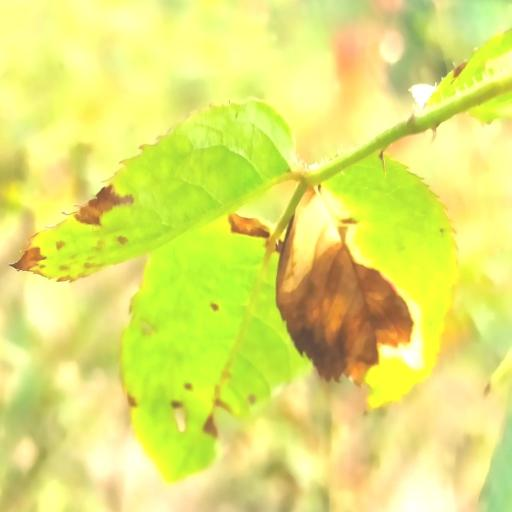thrip: (16, 100, 296, 280), (122, 218, 309, 481), (276, 160, 456, 407)
